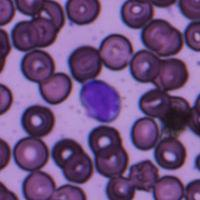L: (78, 77, 122, 123)
